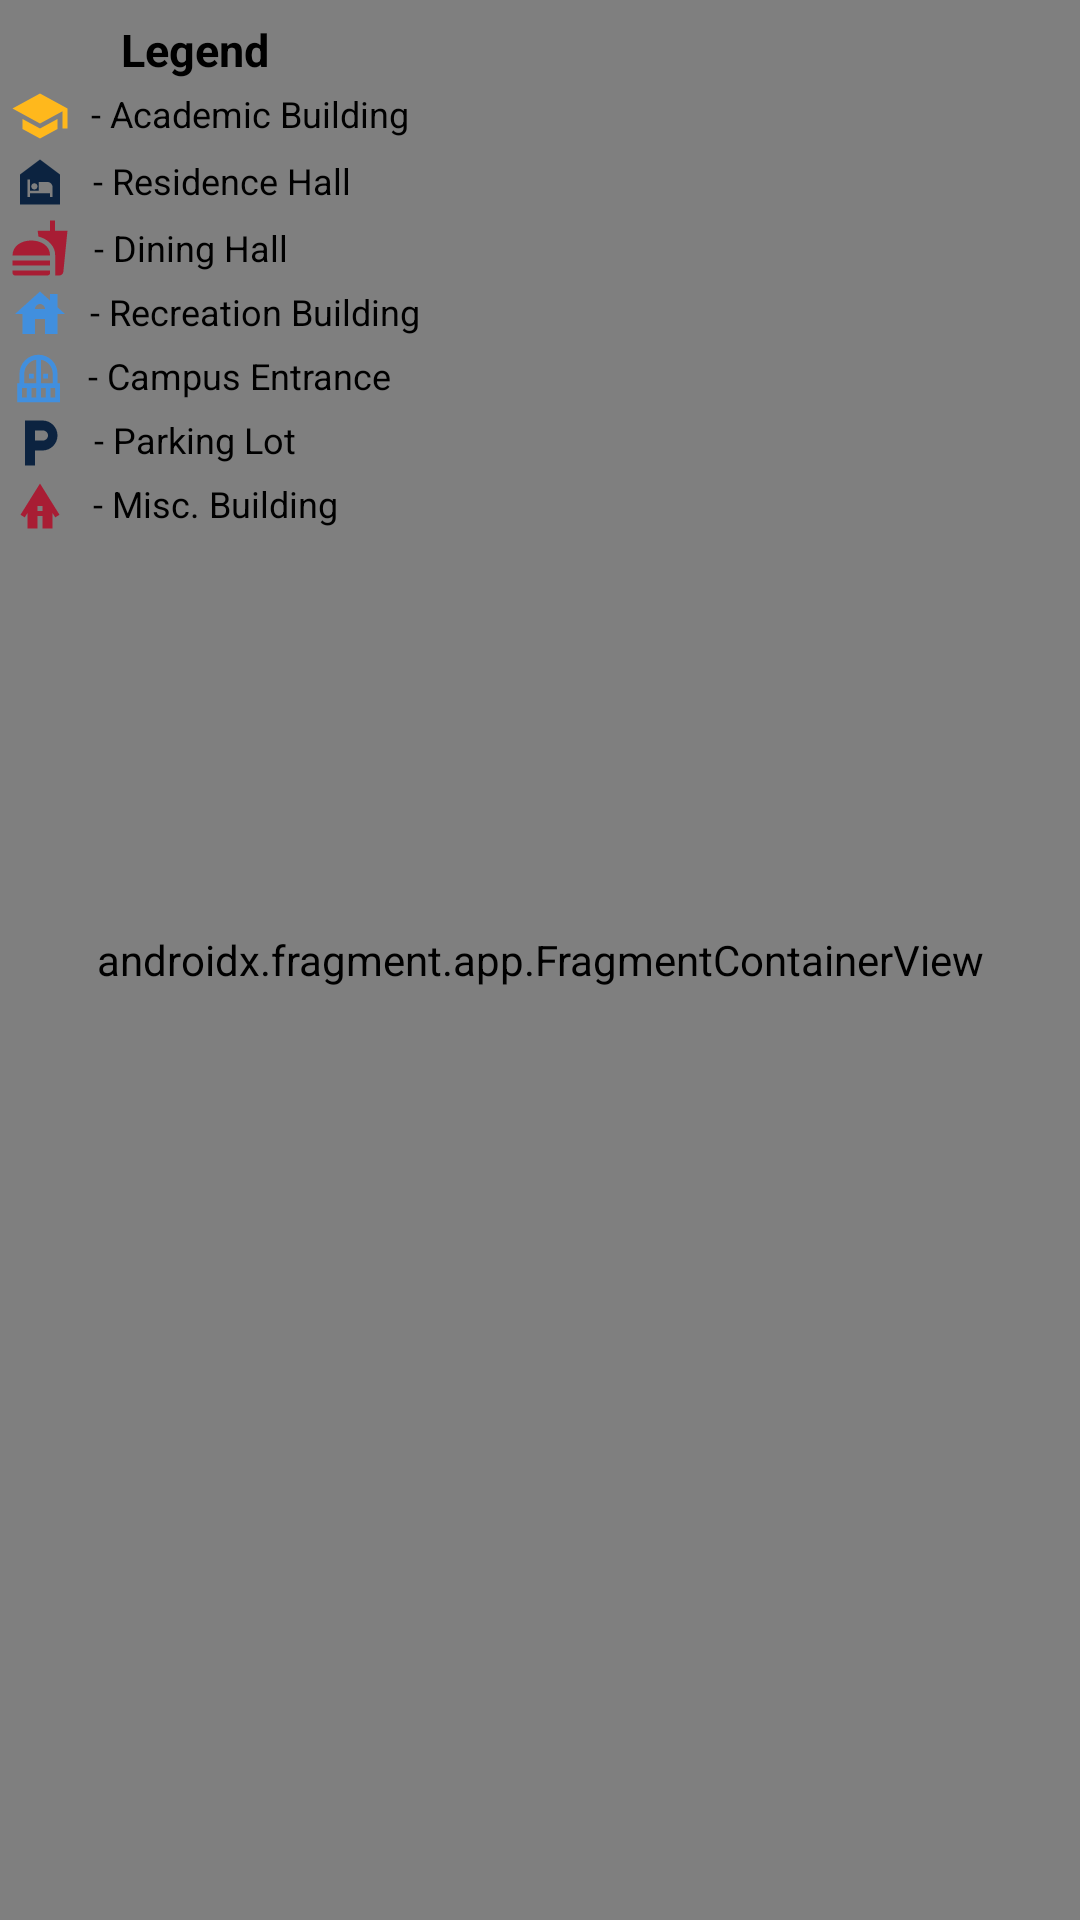

Where icons sit on this 1080 x 1920 app screen, as bbox=(x1, y1, x2, y2):
other building: bbox=(21, 484, 59, 529)
